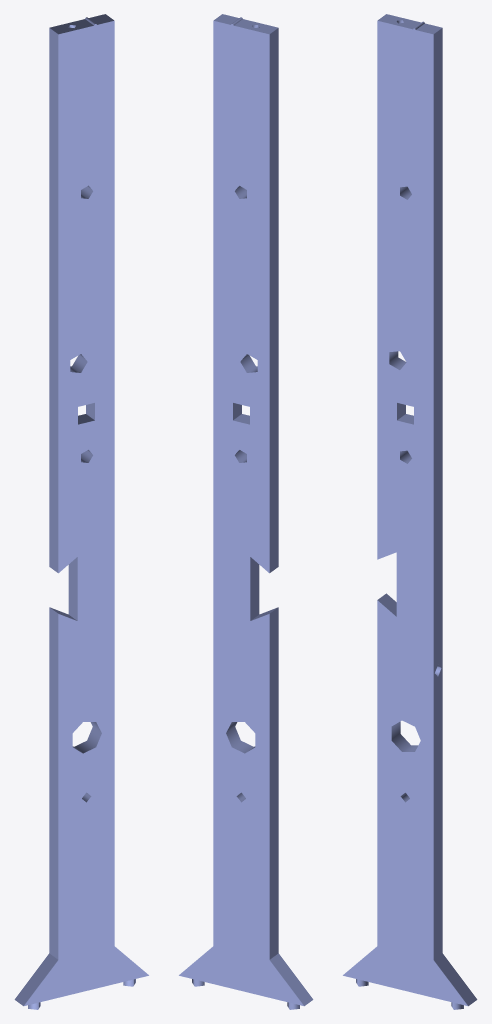
Rendered from Copie de Pilier 4^Copie de ASS pilier 4_Horloge Comtoise Verge - Sonnerie.obj.
The picture shows the model from 3 angles, left to right: view 1: azimuth 30°, elevation 25°; view 2: azimuth 150°, elevation 25°; view 3: azimuth 330°, elevation 25°; orthographic projection.
Visible parts, largest first — view 1: Face_1, Face_3, Face_10, Face_9, Face_12, Face_15, Face_4; view 2: Face_22, Face_3, Face_10, Face_9, Face_12, Face_15, Face_4; view 3: Face_1, Face_6, Face_7, Face_15.
Part boxes in pixels (x1,y1,x2,y2): Face_1: (24, 20, 148, 1005); Face_3: (49, 28, 58, 572); Face_10: (49, 607, 58, 959); Face_9: (14, 953, 57, 1005); Face_12: (68, 557, 77, 620); Face_15: (72, 722, 101, 753); Face_4: (49, 19, 93, 34); Face_22: (179, 20, 303, 1005); Face_3: (269, 28, 278, 572); Face_10: (269, 607, 278, 959); Face_9: (270, 953, 313, 1005); Face_12: (250, 557, 259, 620); Face_15: (226, 722, 255, 753); Face_4: (234, 19, 278, 34); Face_1: (343, 20, 467, 1005); Face_6: (433, 28, 442, 959); Face_7: (434, 953, 477, 1005); Face_15: (391, 721, 418, 751).
Size of the model in its own units: 0.0327 by 0.2413 by 0.0041.
